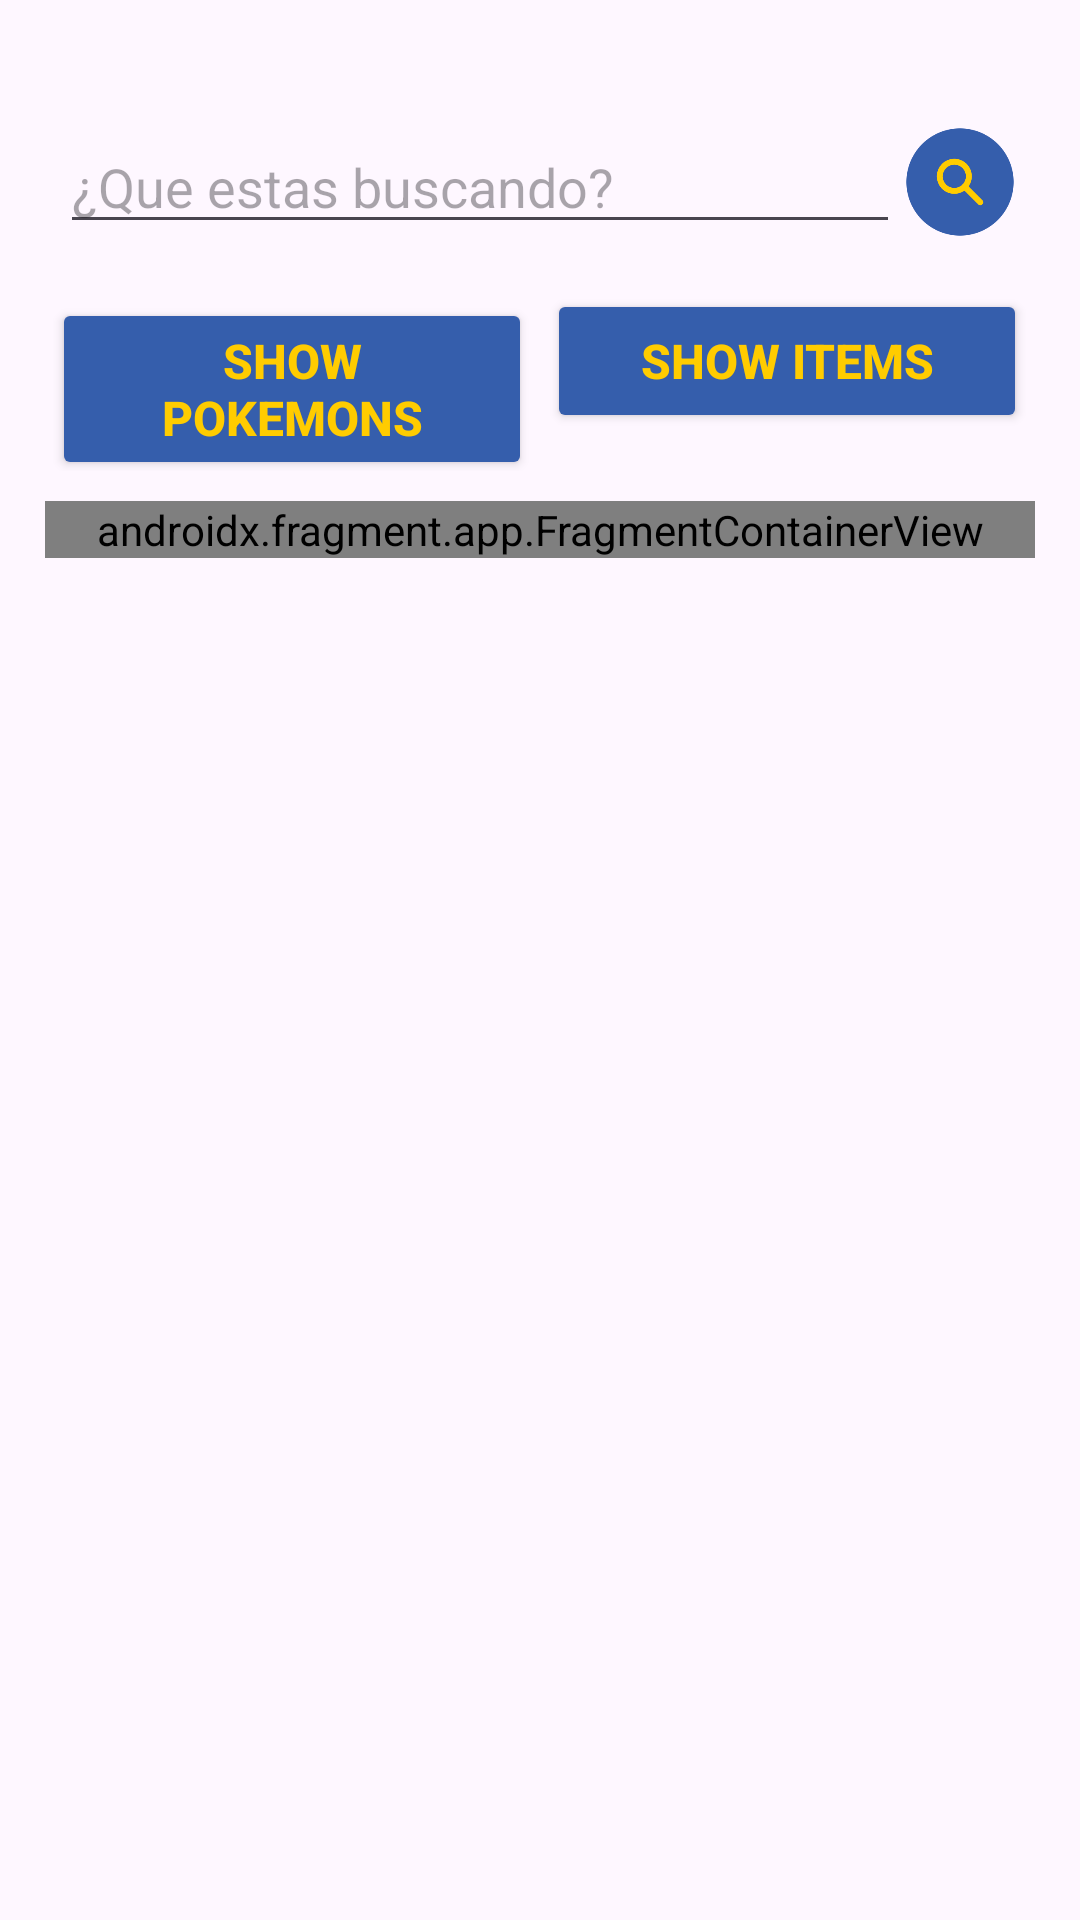

Icons on this 1080x1920 Android screen, each with its box as region(x1, y1, x2, y2):
search: region(906, 128, 1014, 236)
